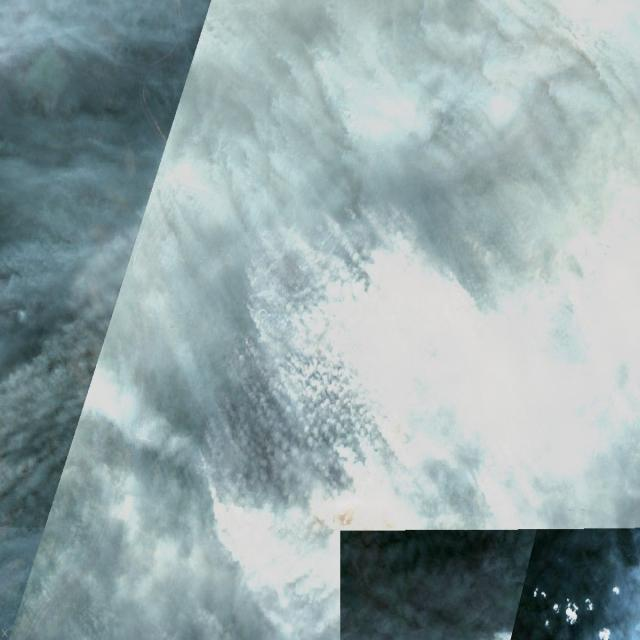fire: (188, 211, 457, 531)
